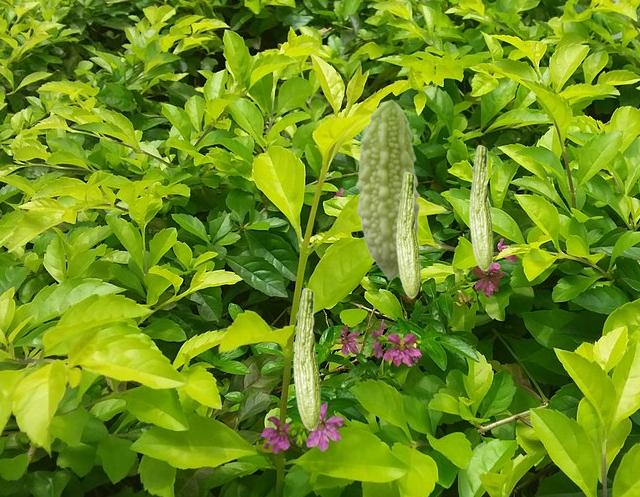ampalaya: (355, 99, 420, 281), (292, 287, 321, 431), (395, 171, 421, 298), (468, 144, 494, 271)
